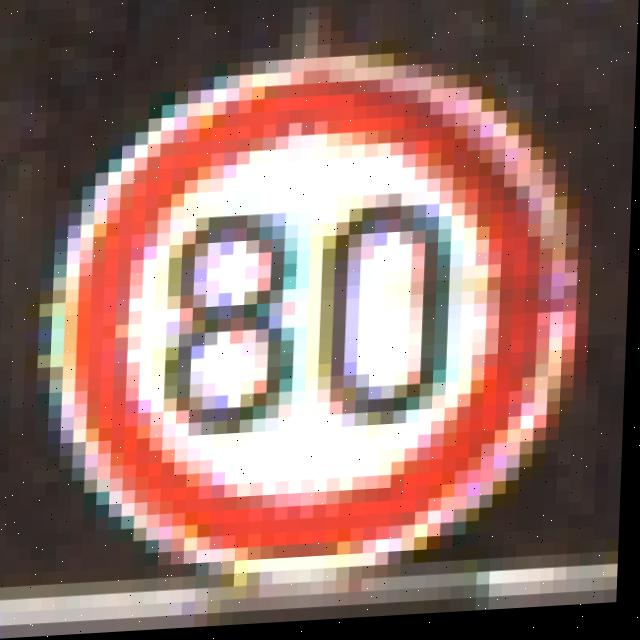speed_limit_80: (50, 40, 584, 594)
